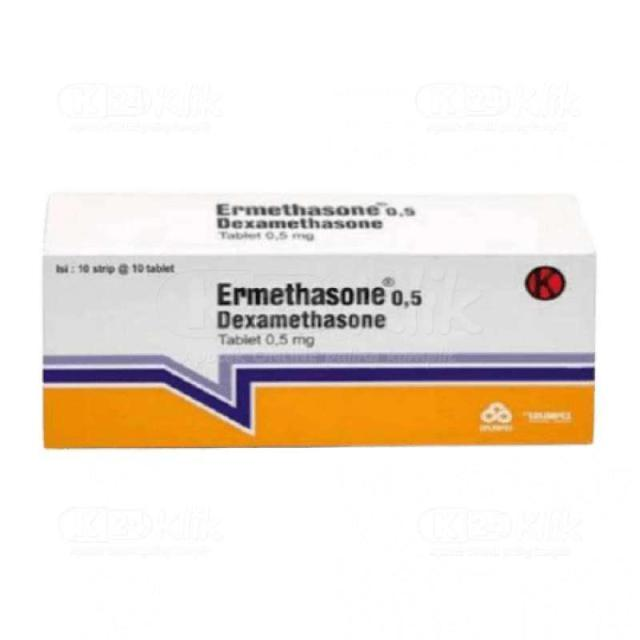drug-name: (213, 274, 430, 312)
